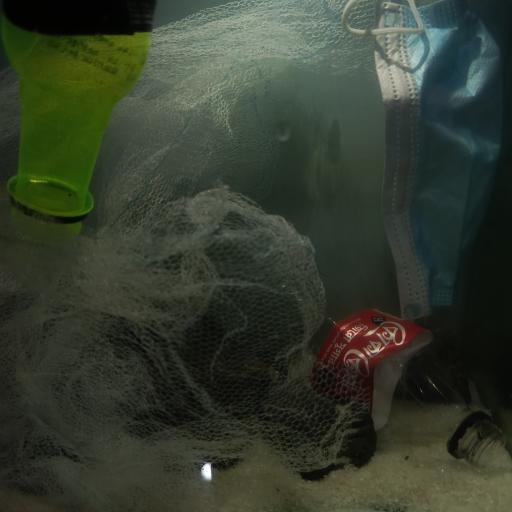mask: (342, 0, 512, 320)
net: (0, 24, 366, 504)
plastic_bottle: (241, 282, 507, 466), (5, 15, 151, 235)
